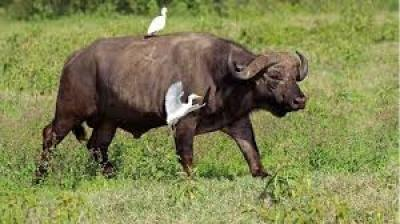buffalo: (36, 31, 307, 181)
